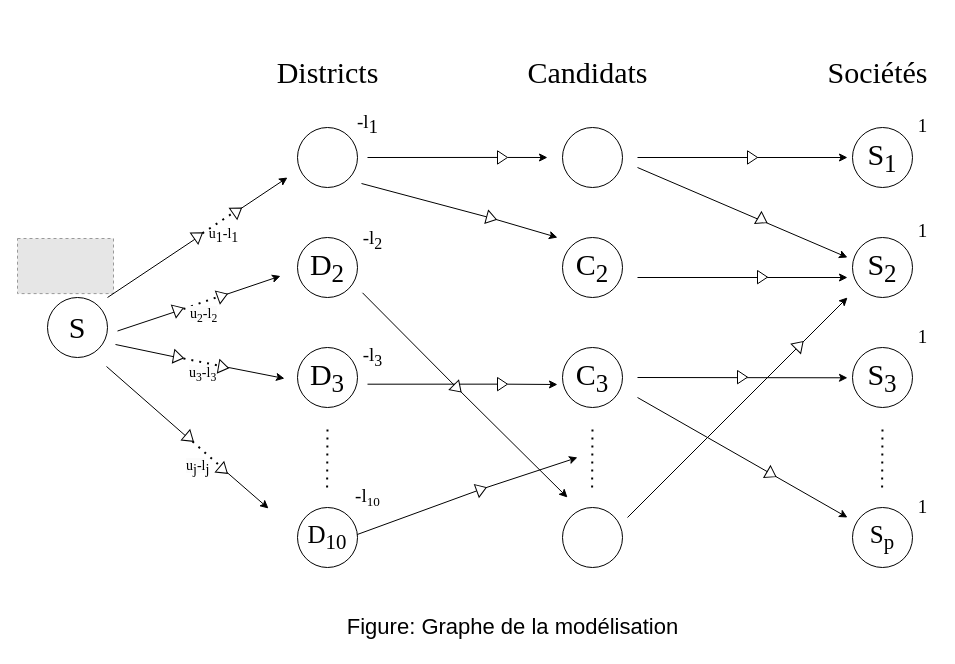
Some shapes in this 955 by 664 pixel diagram are drawn without their labels. Grey dashed boxes stand in for pictures. The box of each missing label's shape, as (x1, y1, x2, y2) in pixels:
C 1: (562, 126, 622, 188)
C n: (562, 506, 622, 568)
D 1: (296, 126, 358, 188)
